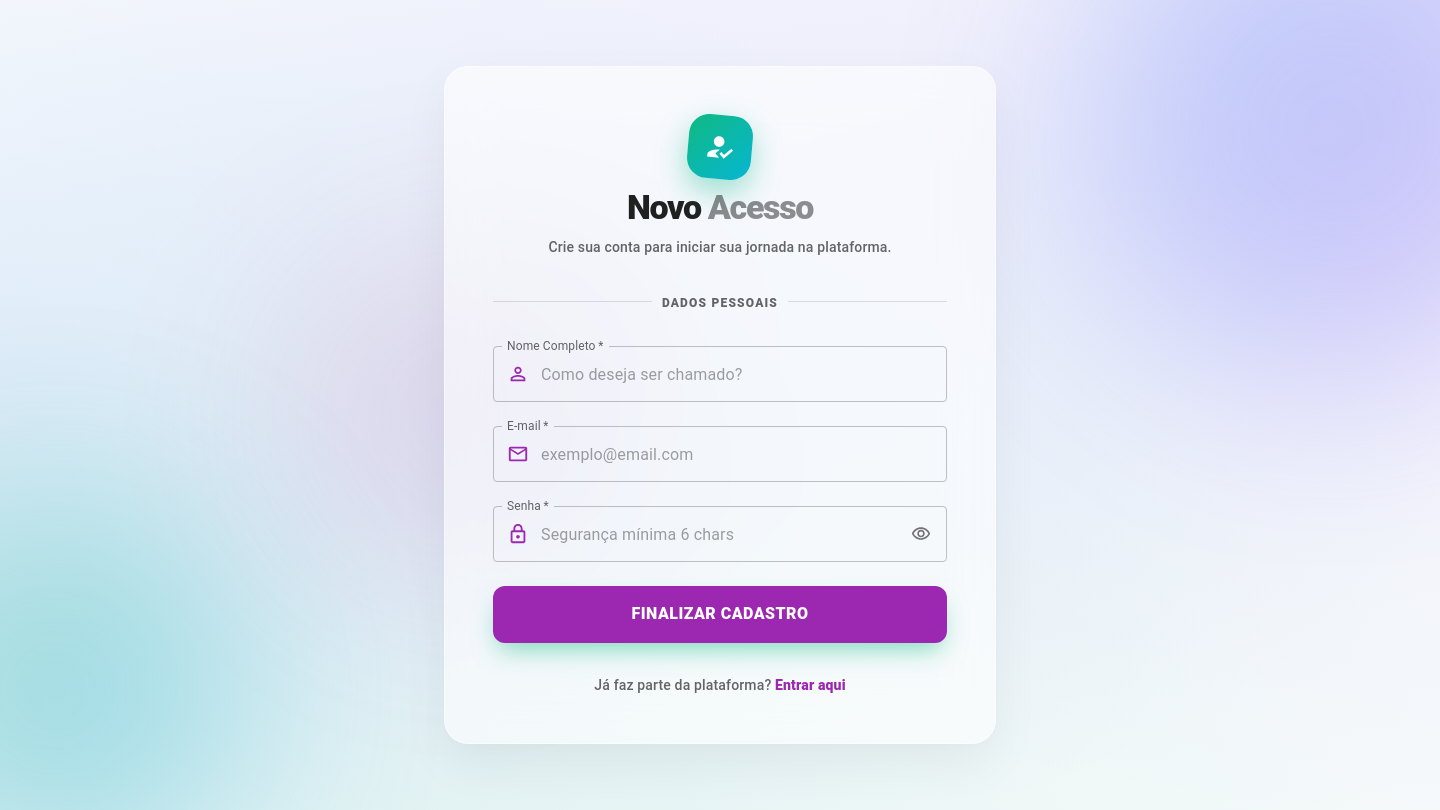
Test case: RegisterForm › realiza cadastro e exibe sucesso
Type "joao" into the field labelled "Nome Completo *" at (744, 374), box 541,346 -> 947,402
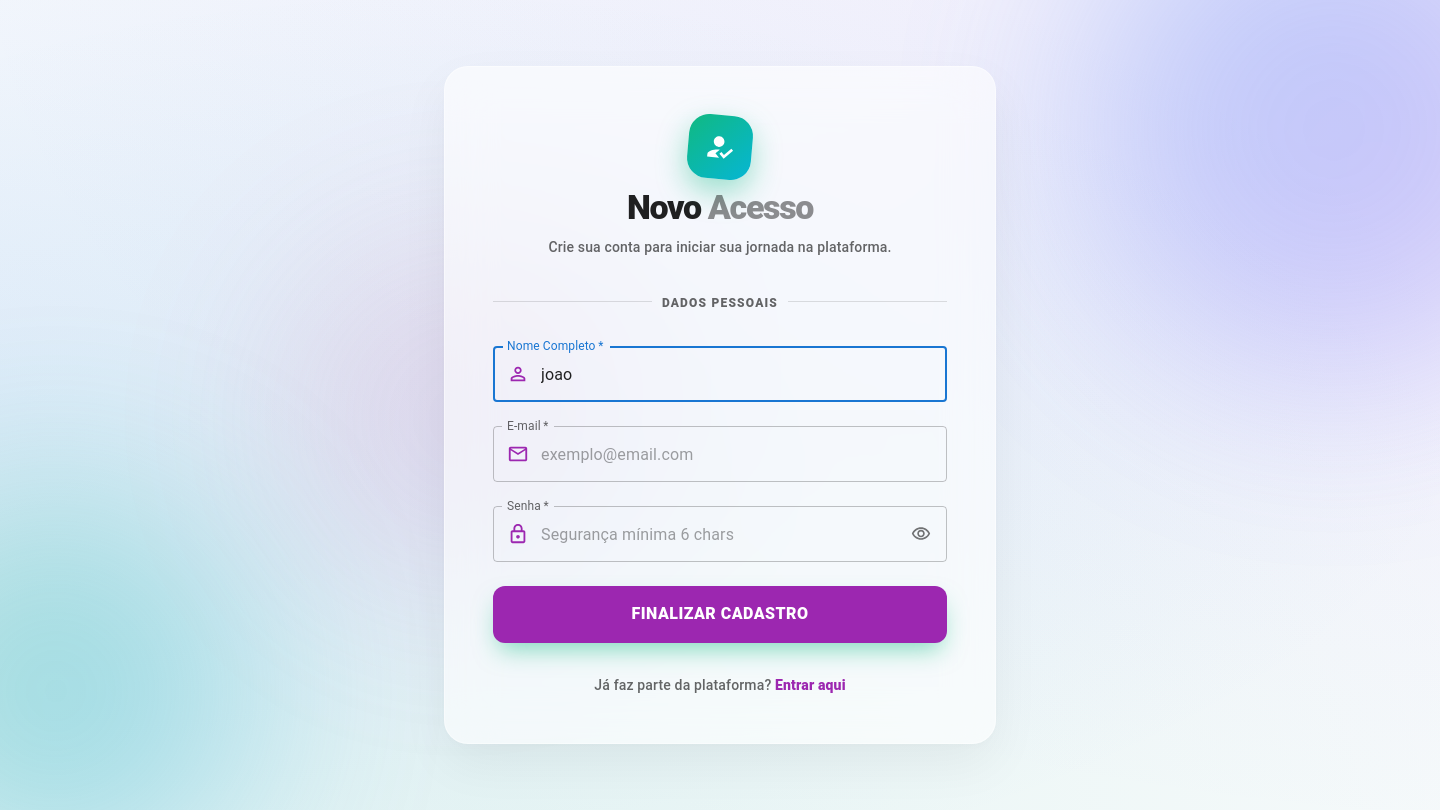
Type "joao@email.com" into the field labelled "E-mail *" at (744, 454), box 541,426 -> 947,482
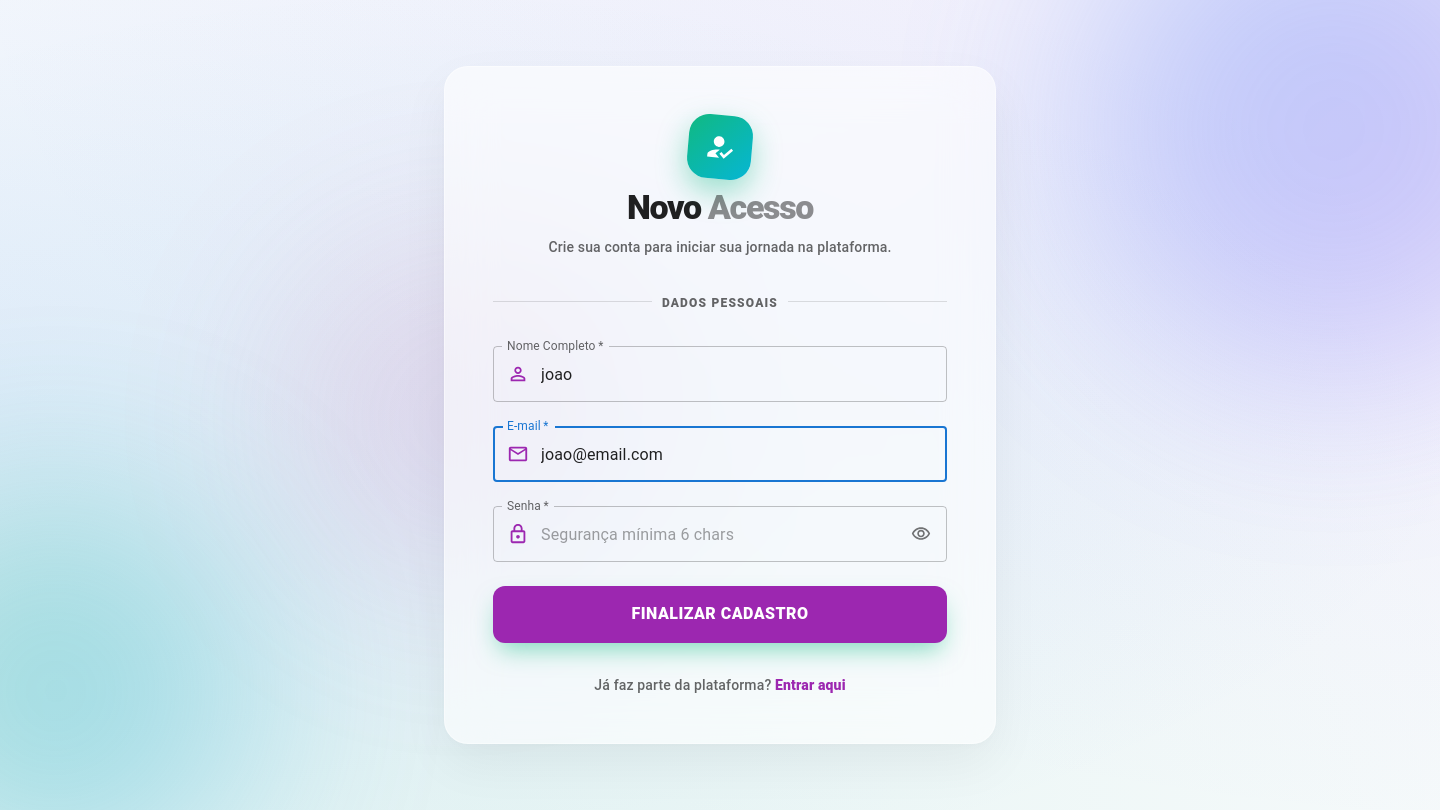
Type "senha123" into the password field labelled "Senha *" at (720, 534), box 541,506 -> 898,562
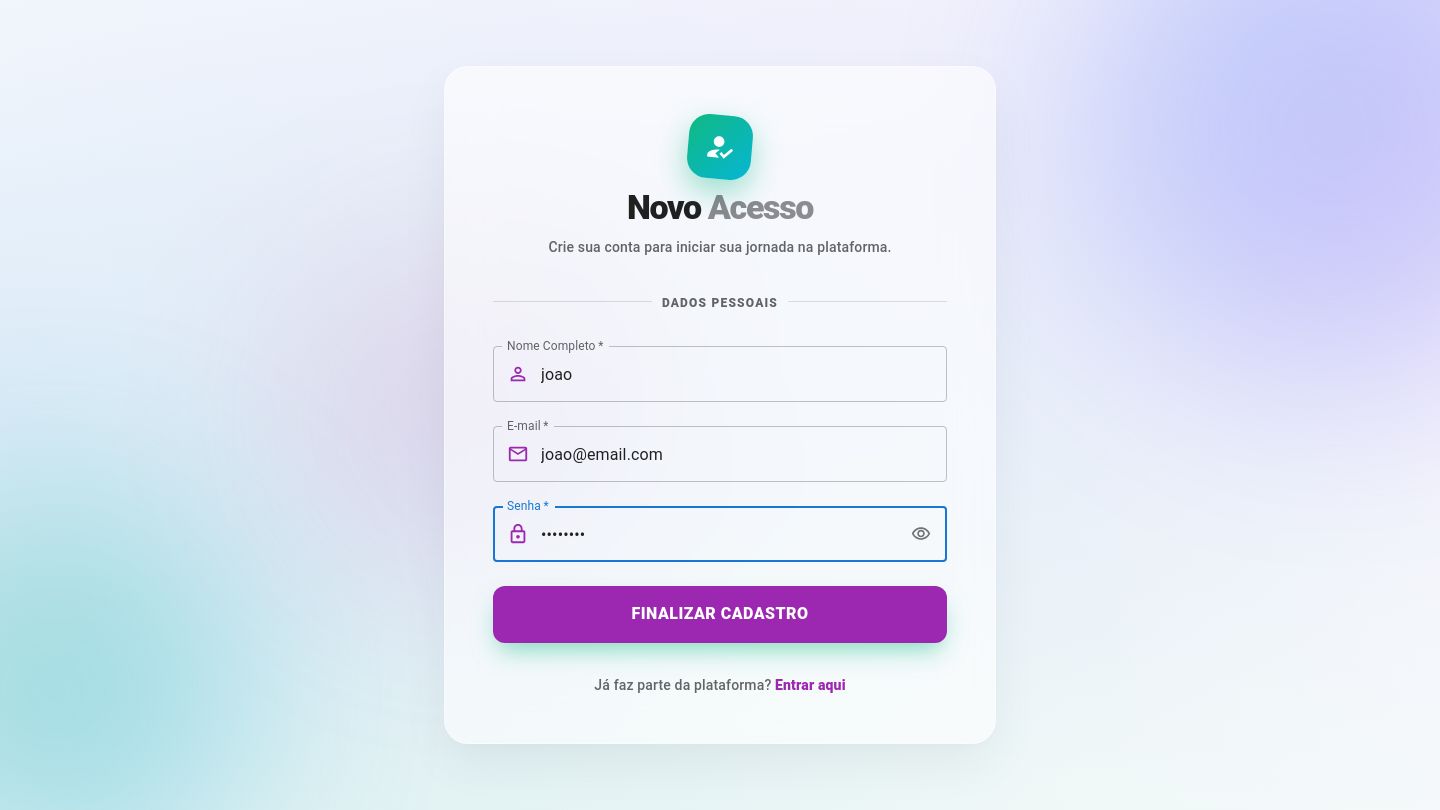
Click the button "Finalizar Cadastro" at (720, 614), box 493,586 -> 947,643
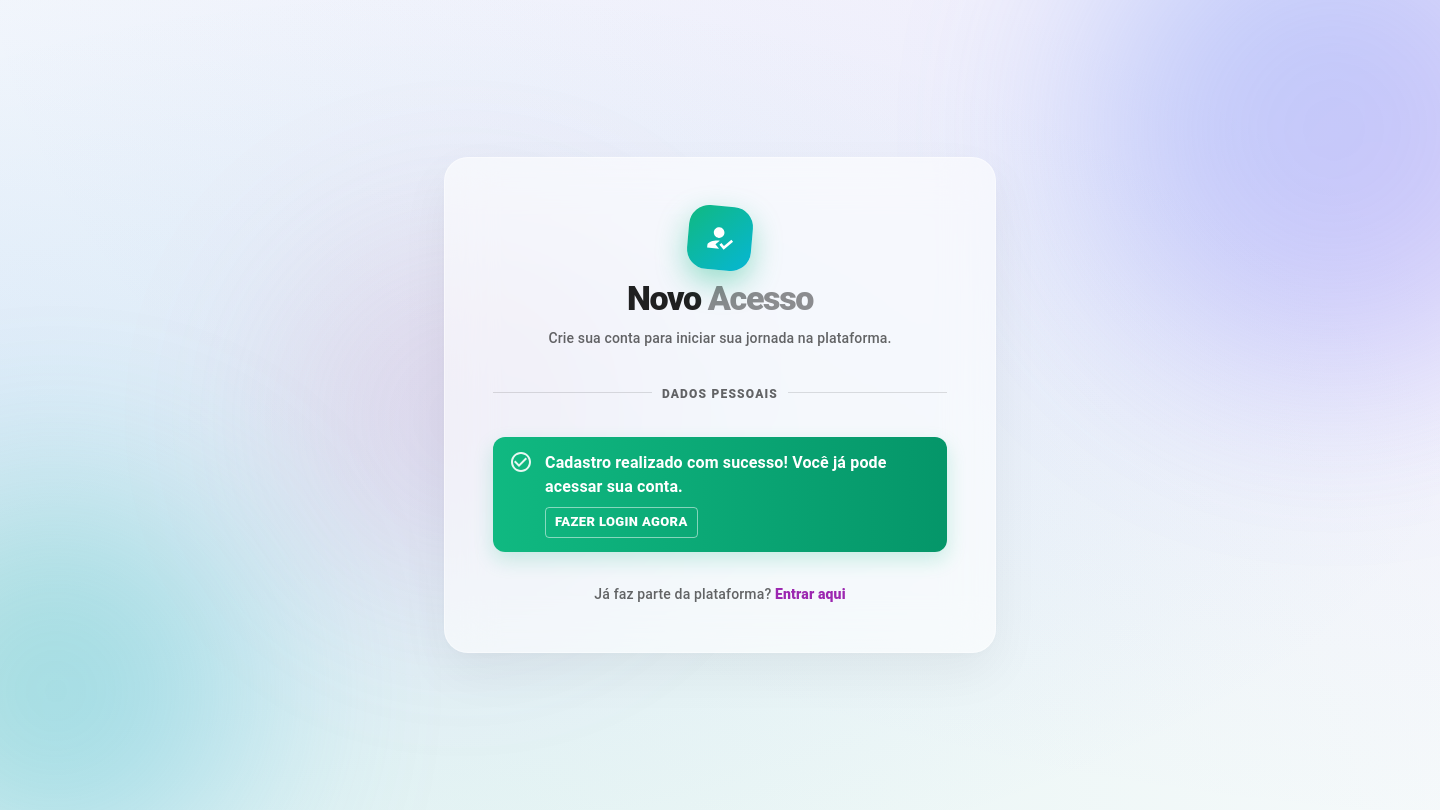
Now the text "Cadastro realizado com sucesso" is shown, box 545,453 -> 887,496
